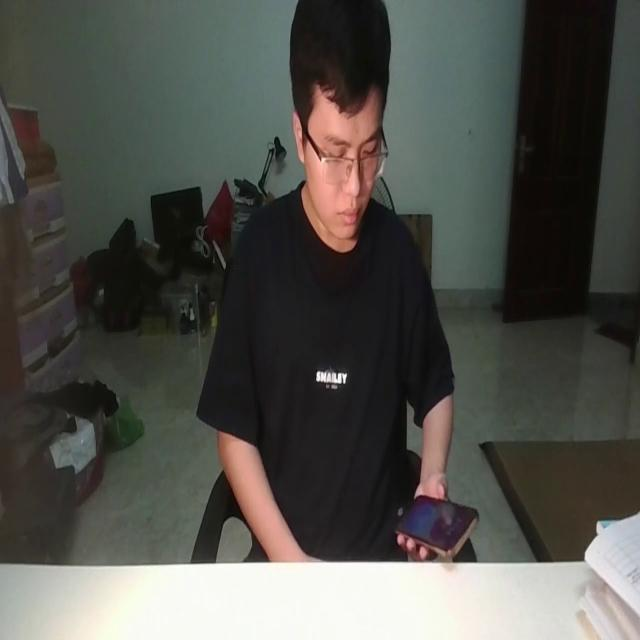phone: (388, 482, 482, 556)
student: (198, 0, 454, 560)
